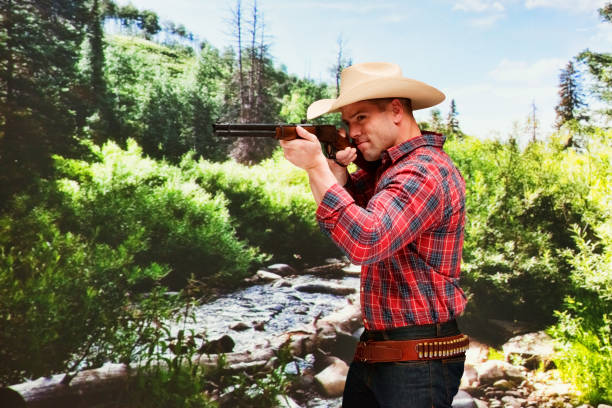gun: (211, 121, 368, 170)
